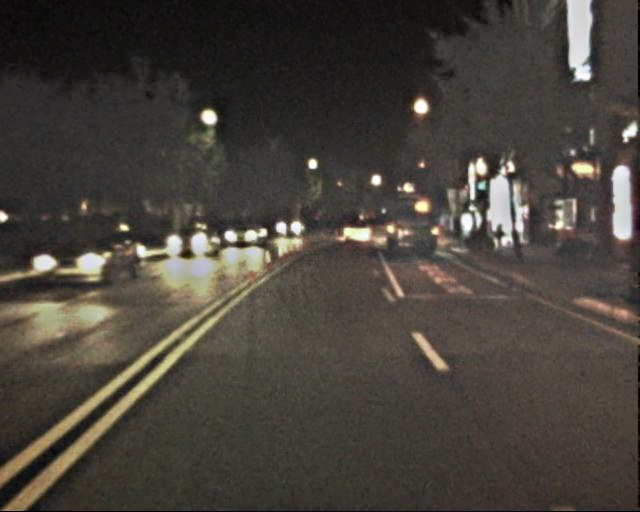person: (582, 218, 602, 267)
